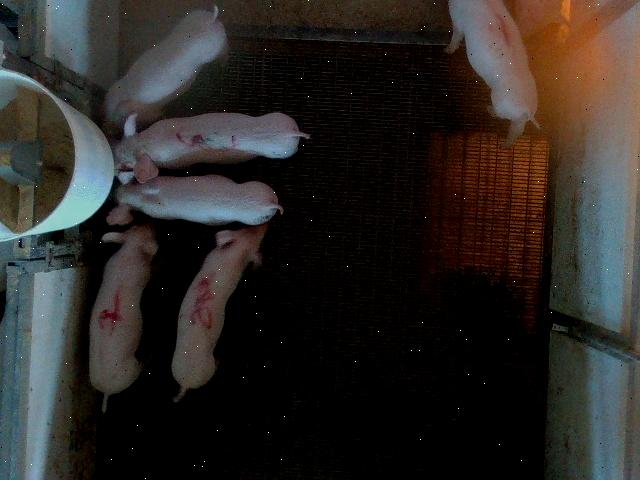pig-1: (446, 1, 540, 148)
pig-3: (114, 112, 310, 182)
pig-4: (89, 222, 159, 411)
pig-5: (171, 224, 268, 402)
